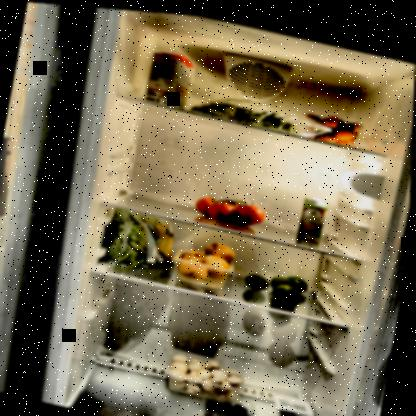blueberries: (201, 385, 264, 415)
green_beans: (191, 83, 307, 132)
heavy_cream: (297, 188, 331, 239)
lime: (243, 261, 312, 301)
mushrooms: (165, 345, 256, 405)
onion: (173, 230, 241, 287)
spinach: (101, 201, 184, 282)
strawberries: (296, 101, 362, 143)
tomato: (190, 185, 267, 226)
